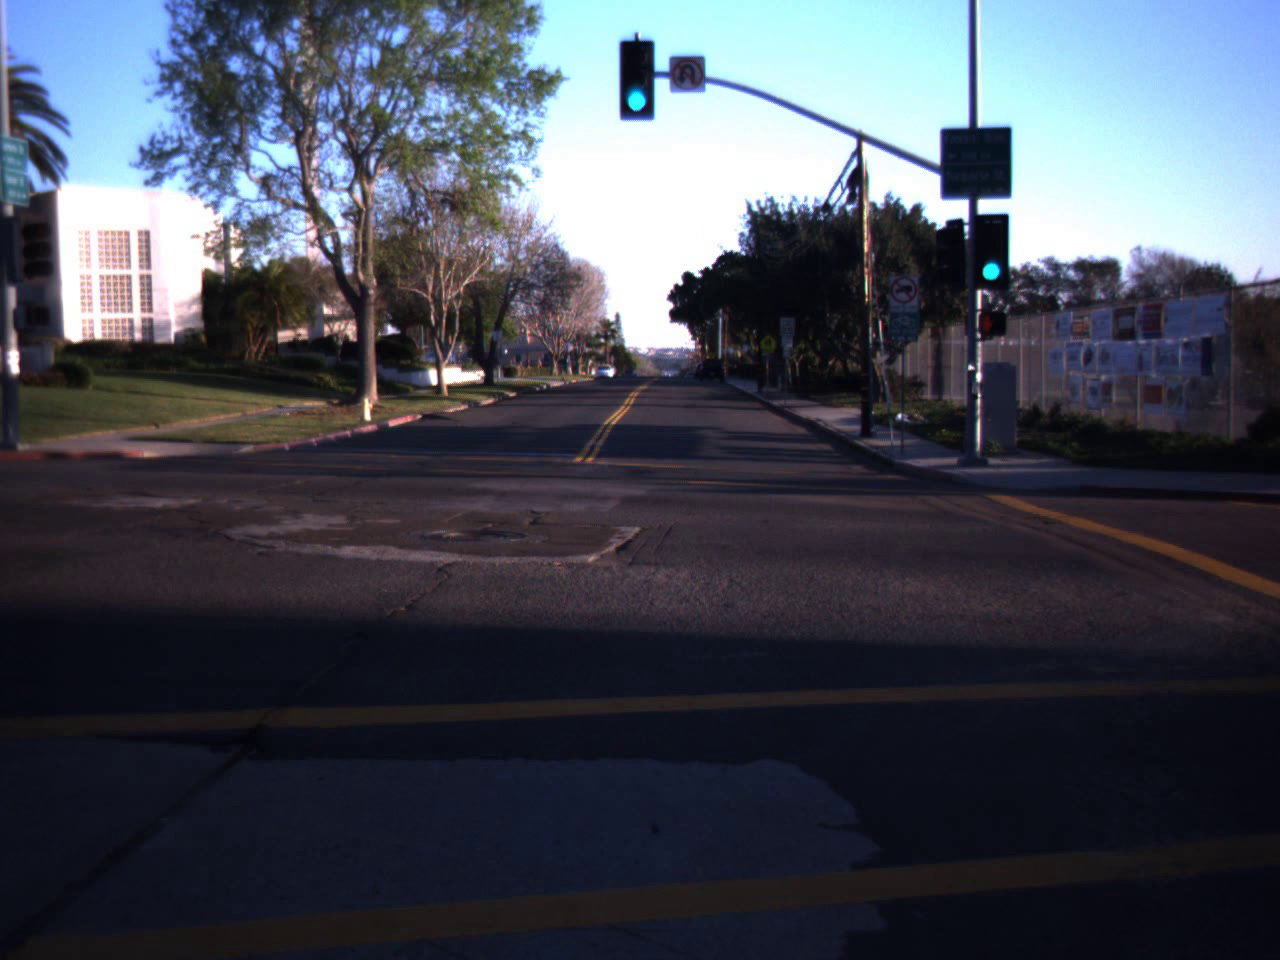go: (613, 29, 661, 119), (968, 203, 1013, 288)
